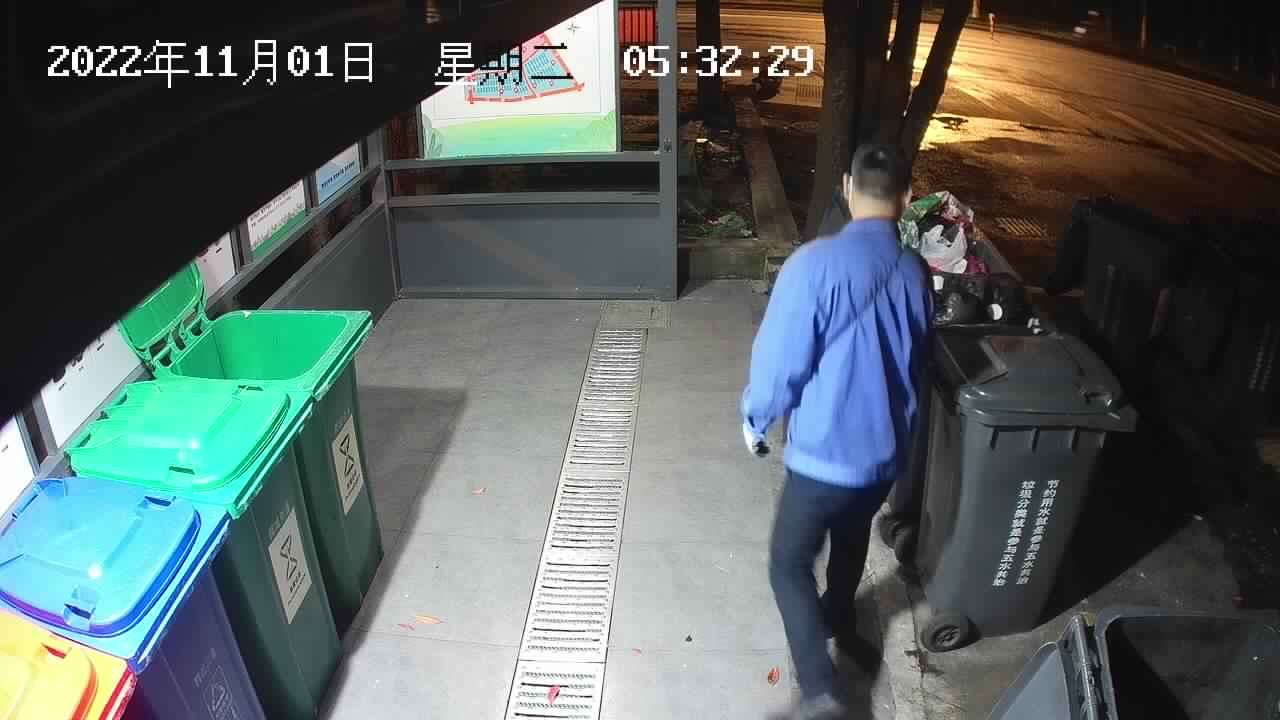worker: (738, 142, 939, 720)
